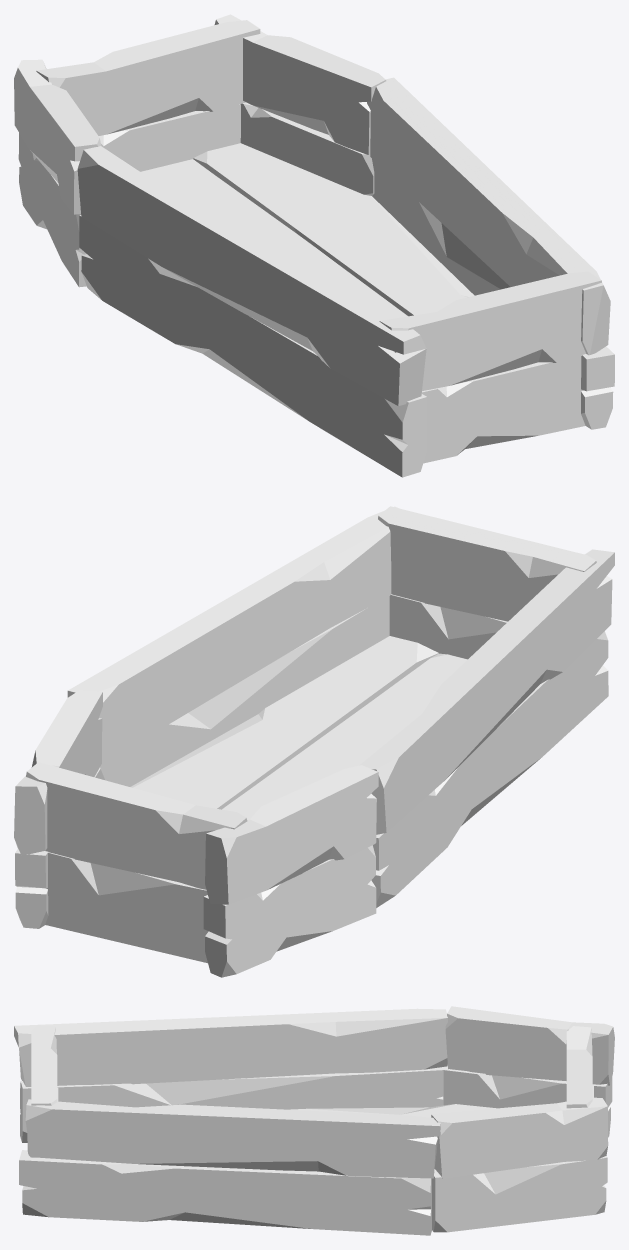
The model's file is Coffin.fbx.
The picture shows the model from 3 angles, top to bottom: view 1: azimuth 30°, elevation 25°; view 2: azimuth 150°, elevation 25°; view 3: azimuth 270°, elevation 25°; orthographic projection. The views are drawn at different scales.
Parts seen in each view (by area): view 1: Coffin; view 2: Coffin; view 3: Coffin.
Part boxes in pixels (x1,y1,x2,y2): Coffin: (14,14,614,477); Coffin: (14,506,614,977); Coffin: (14,1006,614,1235).
Size of the model in its own units: 458 by 200 by 976.
Materials: 1 (1 with a texture image).
